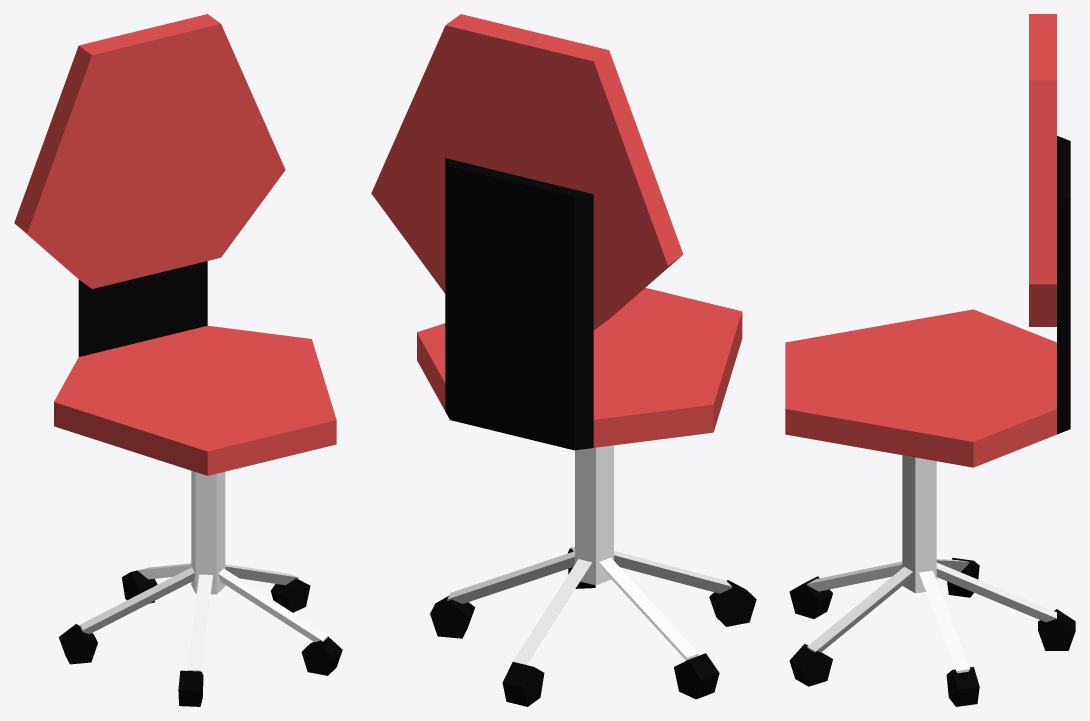
The model's file is Chair.obj.
3 views of the same model, side by side, from view 1: azimuth 30°, elevation 25°; view 2: azimuth 150°, elevation 25°; view 3: azimuth 270°, elevation 25° (orthographic). The views are drawn at different scales.
Visible parts, largest first — view 1: object_7, object_8, object_6, object_9, object_11, object_13, object_12, object_2, object_4, object_1, object_3, object_10 (+2 smaller); view 2: object_7, object_6, object_8, object_9, object_11, object_10, object_12, object_14, object_4, object_5, object_3, object_1; view 3: object_8, object_7, object_9, object_6, object_14, object_13, object_10, object_2, object_12, object_5, object_3, object_1 (+1 smaller).
Boxes of the visible parts, x1,y1,x2,y2 form: object_7: (14,14,285,288); object_8: (54,325,336,475); object_6: (78,261,207,356); object_9: (191,471,225,594); object_11: (80,567,194,634); object_13: (218,568,327,642); object_12: (187,574,212,671); object_2: (301,636,342,675); object_4: (58,624,97,664); object_1: (271,578,310,612); object_3: (178,670,203,706); object_10: (225,564,298,585); object_7: (371,14,683,329); object_6: (445,158,593,450); object_8: (417,288,742,447); object_9: (575,445,613,585); object_11: (599,557,698,660); object_10: (447,551,574,603); object_12: (614,551,732,593); object_14: (513,559,591,664); object_4: (674,653,719,699); object_5: (502,662,544,706); object_3: (709,580,756,626); object_1: (430,596,474,638); object_8: (785,309,1056,467); object_7: (1029,14,1056,326); object_9: (902,455,936,593); object_6: (1057,136,1070,434); object_14: (936,562,1056,622); object_13: (807,567,912,652); object_10: (919,570,969,673); object_2: (789,643,832,686); object_12: (807,561,902,591); object_5: (1038,609,1075,650); object_3: (789,576,832,618); object_1: (946,667,979,706).
Size of the model in its own units: 55.5 by 117 by 51.36.
